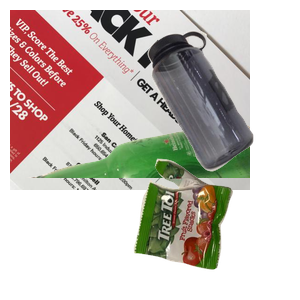glass: (23, 120, 263, 300)
paper: (10, 10, 250, 190)
plastic: (145, 28, 300, 192)
trash: (131, 156, 300, 300)
